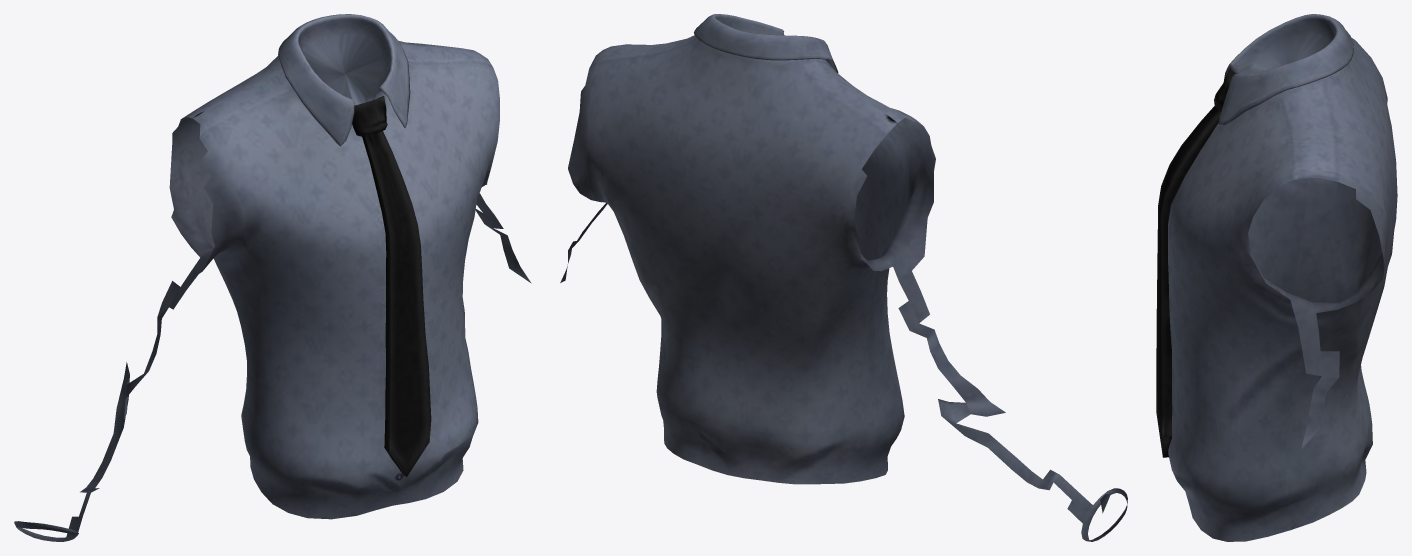
The model's file is profesor_torso.glb.
3 views of the same model, side by side, from view 1: azimuth 30°, elevation 25°; view 2: azimuth 150°, elevation 25°; view 3: azimuth 270°, elevation 25° (orthographic). The views are drawn at different scales.
Parts seen in each view (by area): view 1: Object_31; view 2: Object_31; view 3: Object_31.
Part boxes in pixels (box(x1,y1,x2,y2)): Object_31: box(14, 14, 531, 541); Object_31: box(560, 14, 1127, 541); Object_31: box(1156, 14, 1397, 541).
Bounding box in the file's own units: 0.2034 × 0.1633 × 0.0759.
1 material, 1 textured.
